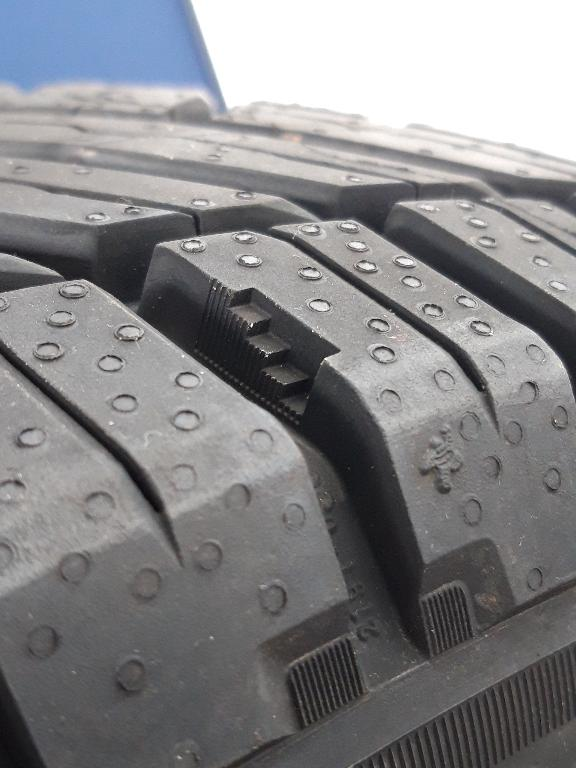temoin:100: (188, 272, 348, 435)
